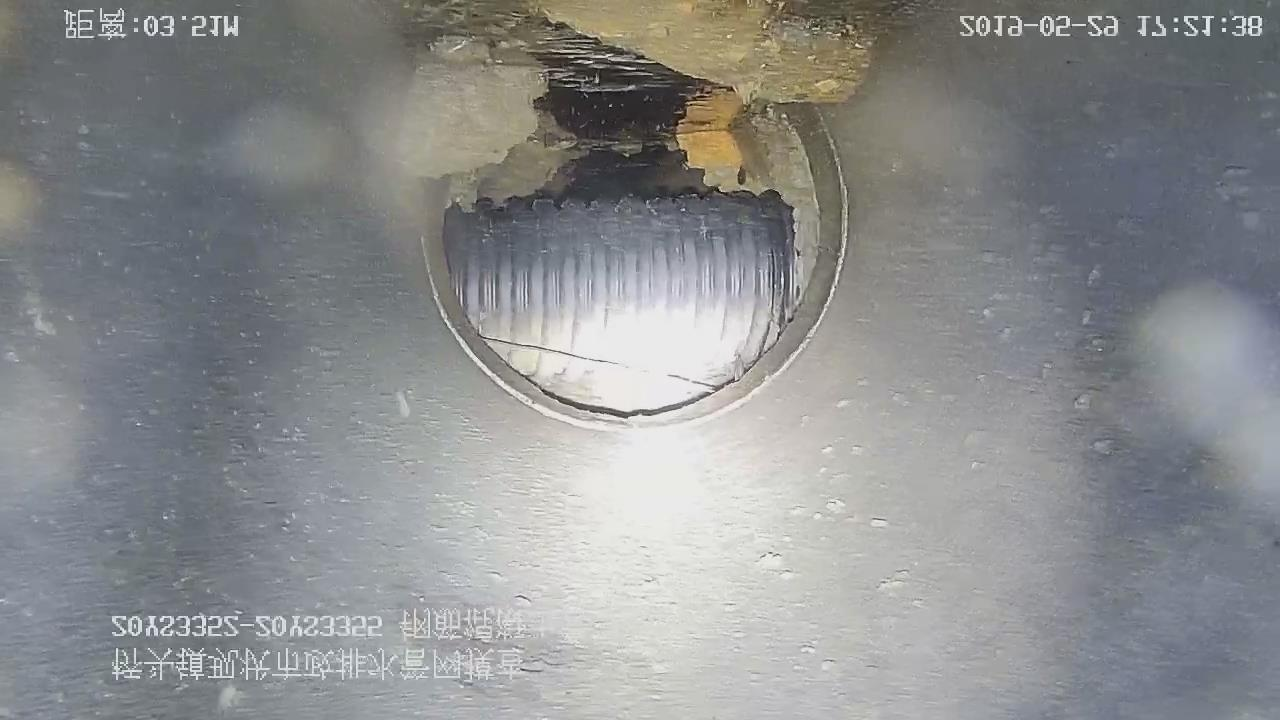YWCR: (443, 194, 803, 411)
